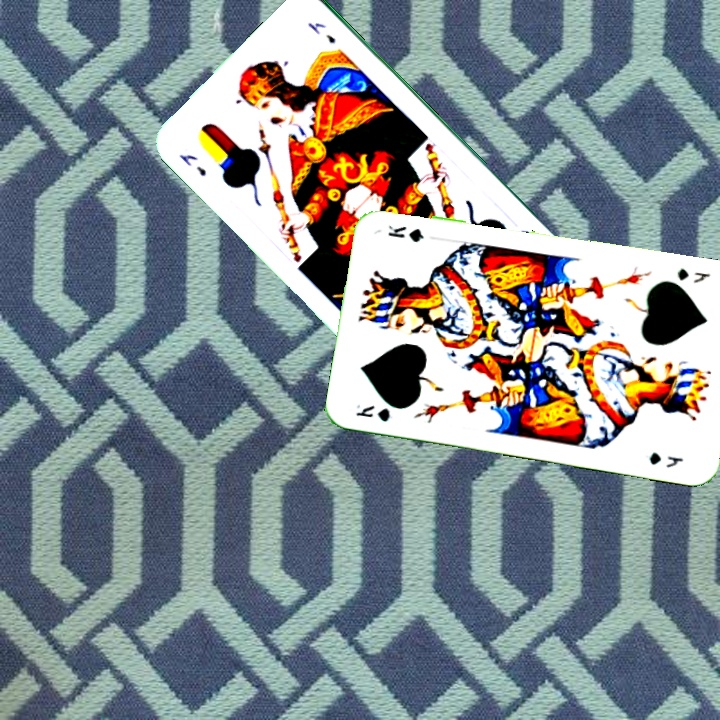EK: (175, 150, 209, 179)
GK: (352, 400, 393, 424), (673, 264, 713, 286)
